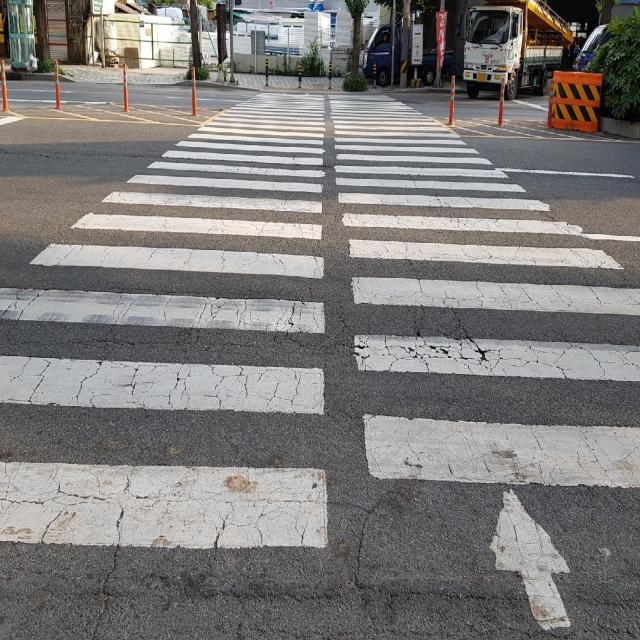횡단보도: (0, 91, 639, 640)
